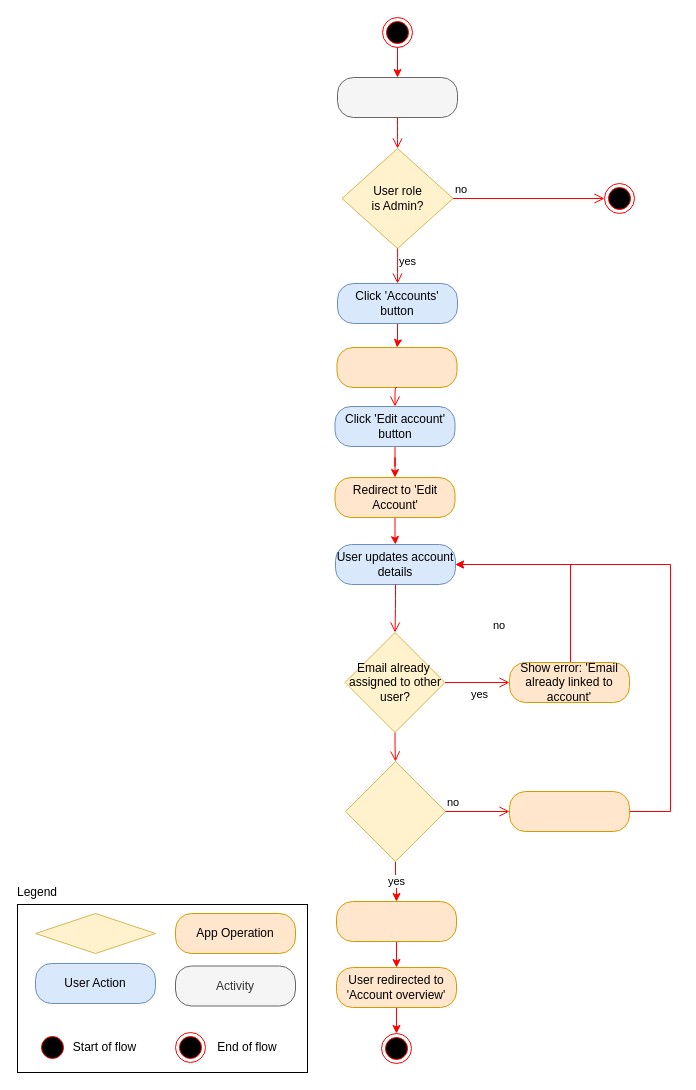
The diagram is 696 pixels wide and 1090 high, and some of its shapes have lost their labels. Here are the shapes that lost their labels. From the top down, the box of each, then its label:
(336, 76, 458, 118): Go to: 'Login'
(336, 346, 457, 388): Redirect to 'Accounts'
(344, 760, 446, 862): passw meets requirements ?
(508, 790, 630, 832): Show Error: Incorrect Password format
(34, 912, 156, 954): Condition
(336, 900, 456, 942): Show notification 'Account updated'
